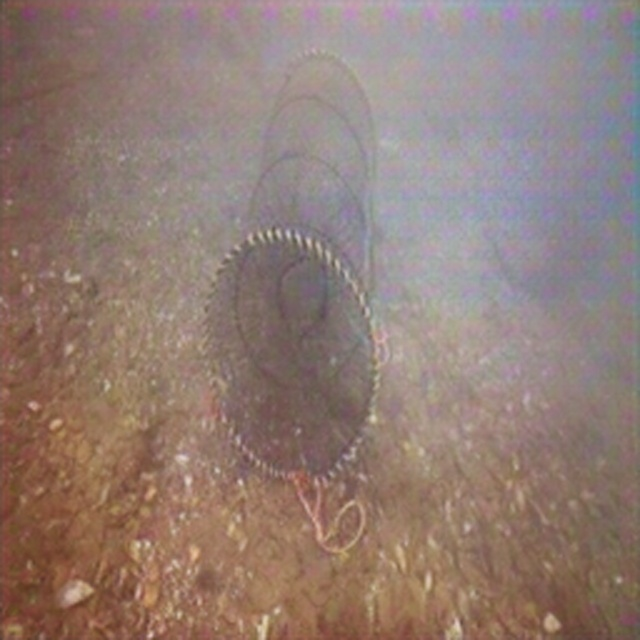mine: (200, 46, 378, 487)
